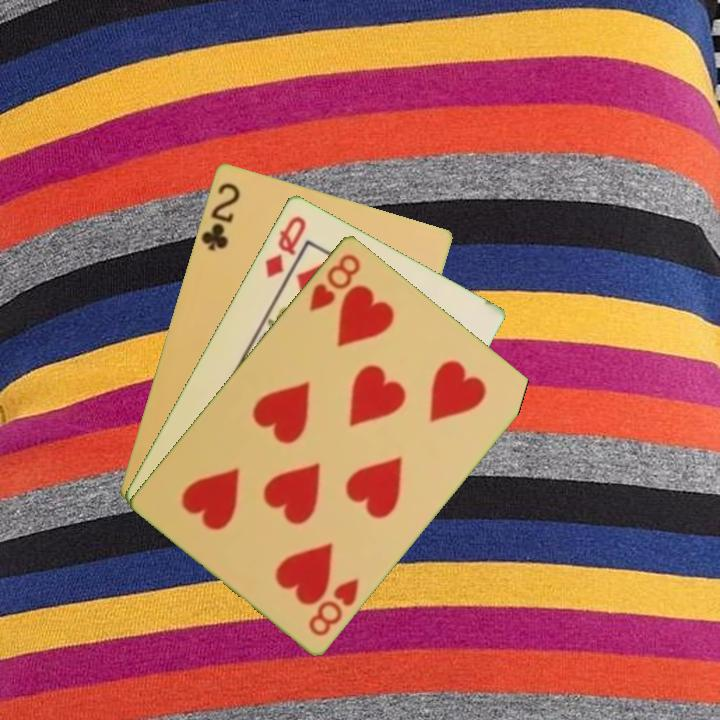2c: (197, 178, 243, 254)
8h: (305, 249, 364, 314), (304, 574, 362, 639)
Qd: (261, 211, 309, 280)
